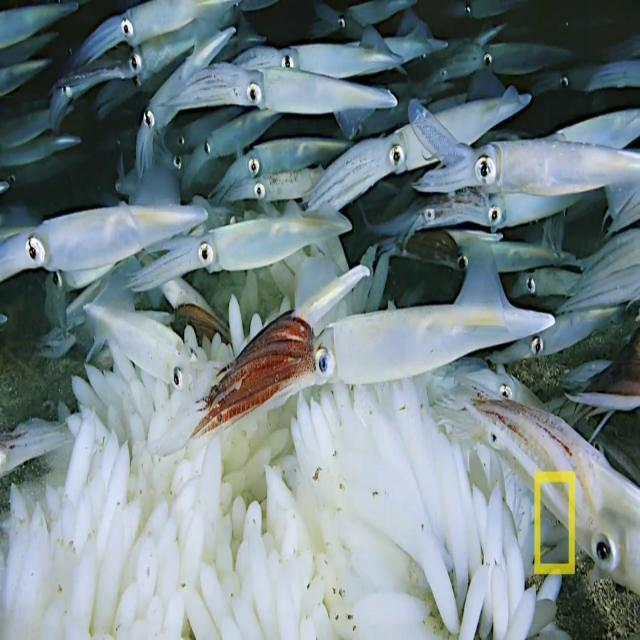squid: (191, 242, 556, 436), (434, 396, 640, 592), (307, 84, 534, 210), (409, 102, 640, 222), (436, 113, 640, 227), (131, 200, 353, 291), (82, 259, 208, 406), (0, 203, 210, 285), (160, 60, 400, 128), (138, 22, 236, 174), (68, 0, 238, 67), (380, 228, 580, 280), (233, 24, 406, 82), (180, 105, 282, 190), (213, 135, 350, 196), (488, 306, 623, 361), (115, 16, 226, 82), (359, 186, 488, 238), (51, 49, 132, 130), (313, 3, 403, 63), (224, 163, 326, 204), (162, 104, 242, 156), (529, 57, 640, 92), (468, 42, 576, 76), (508, 265, 584, 303)
